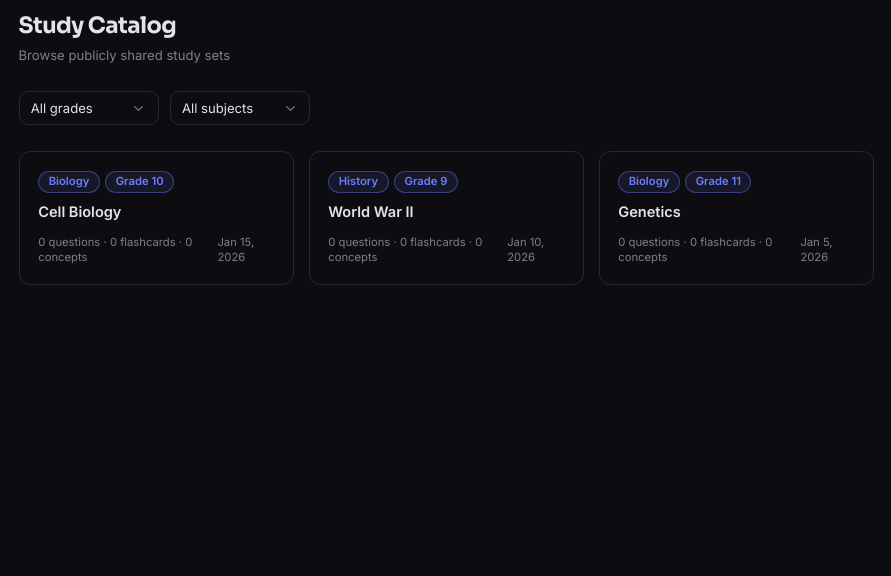
Test: CatalogPage — filtering › filters preps by grade
Click the dropdown named "filter by grade".
click(88, 108)  # box [18, 91, 158, 125]
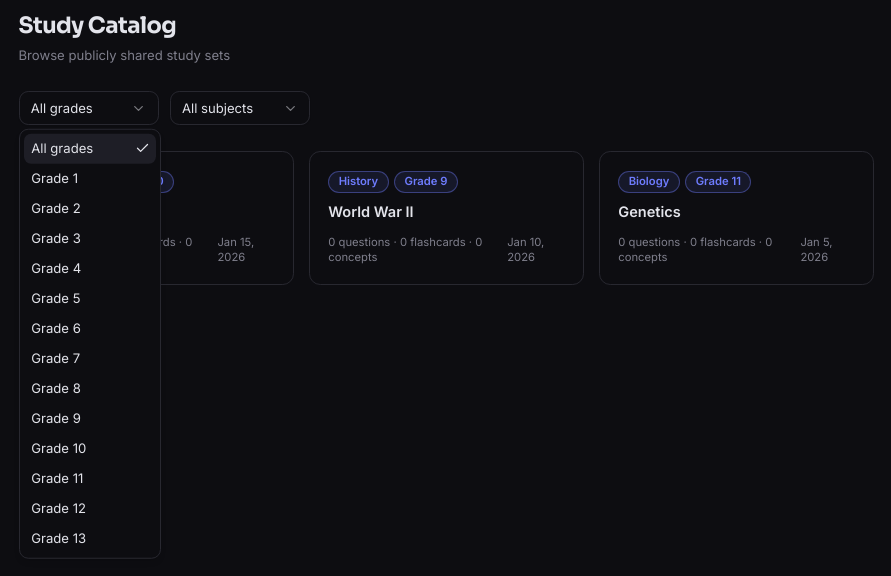
Click the option "Grade 9".
click(56, 418)  # box [31, 410, 81, 426]
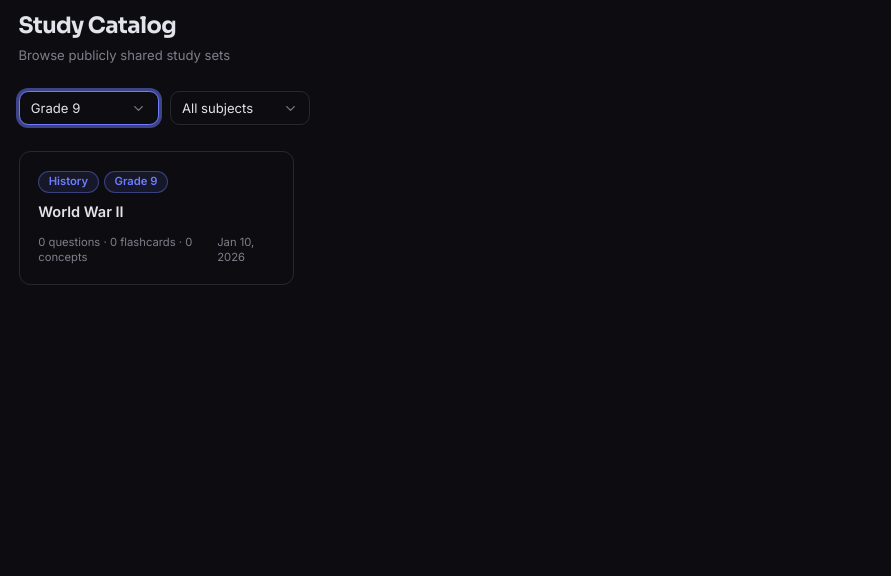
Check: the heading "World War II" is shown, box [38, 203, 124, 221]
Check: the link "Cell Biology" is gone
Check: the link "Genetics" is gone
